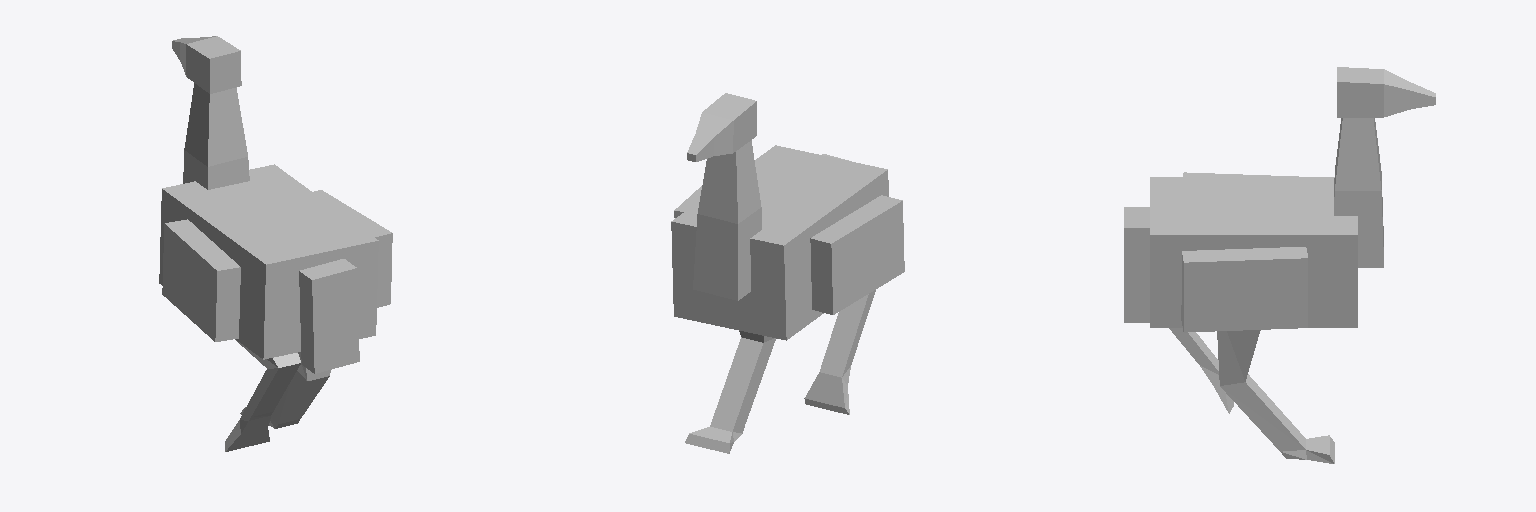
Rendered from Ostrich_000189.obj.
3 renders of one model, left to right at view 1: azimuth 30°, elevation 25°; view 2: azimuth 150°, elevation 25°; view 3: azimuth 270°, elevation 25°, orthographic.
Parts seen in each view (by area): view 1: Cube_Cube.001; view 2: Cube_Cube.001; view 3: Cube_Cube.001.
Part boxes in pixels (bbox=[...]): Cube_Cube.001: bbox=[159, 36, 392, 451]; Cube_Cube.001: bbox=[671, 93, 904, 453]; Cube_Cube.001: bbox=[1124, 67, 1435, 463].
Bounding box in the file's own units: 0.7862 × 1.53 × 1.2.